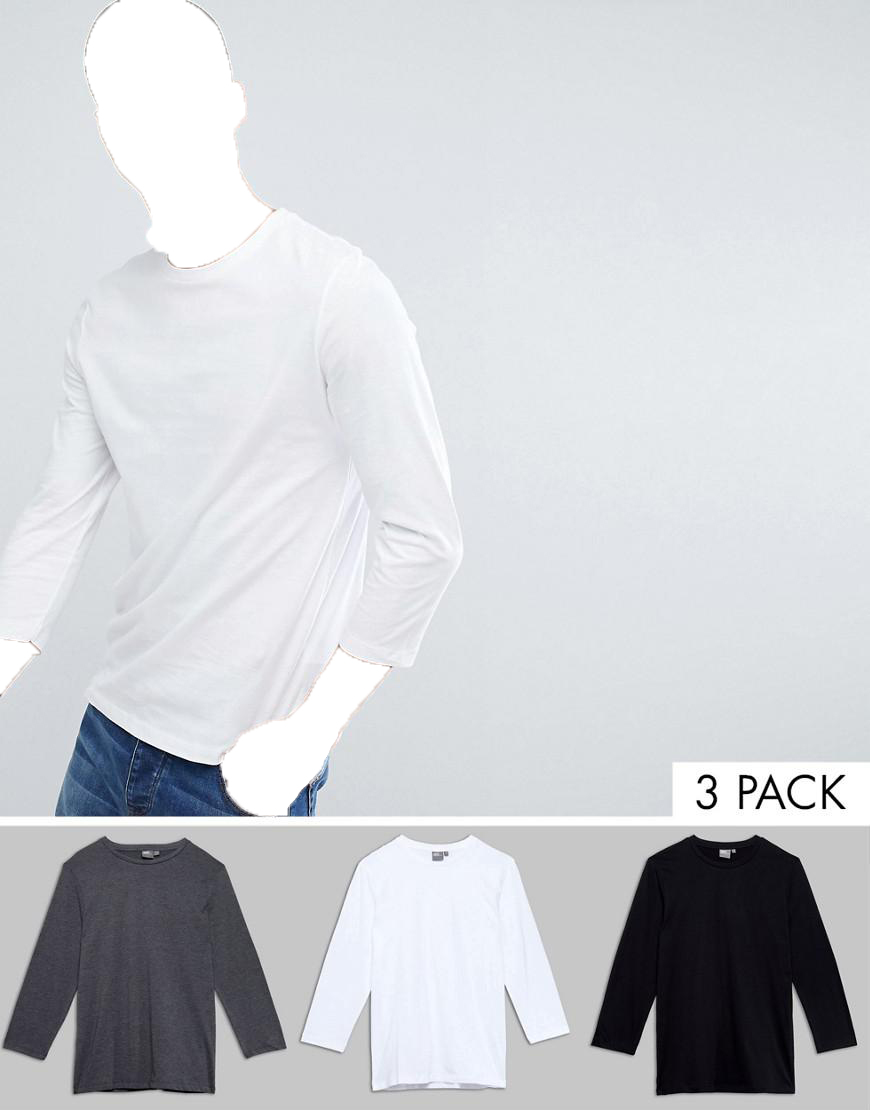teeshirt: (20, 208, 462, 759), (579, 835, 862, 1110), (301, 834, 572, 1110), (8, 837, 290, 1101)
